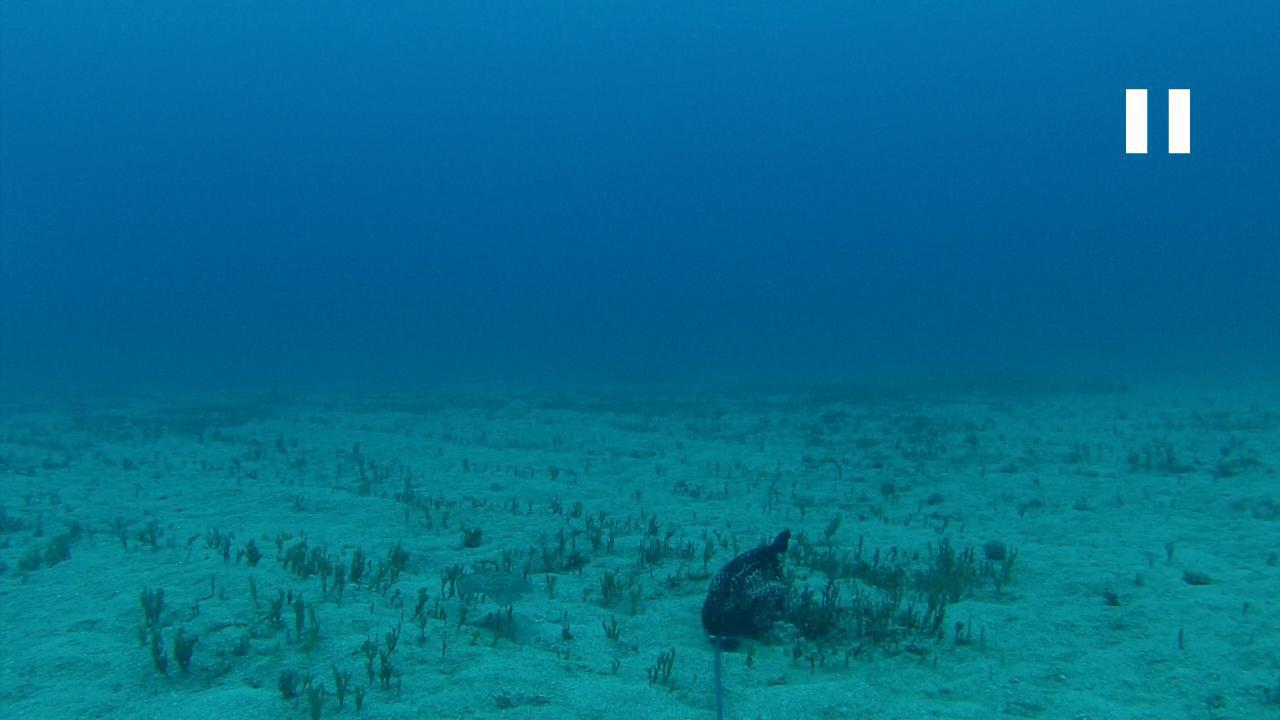bothus: (452, 560, 535, 604)
